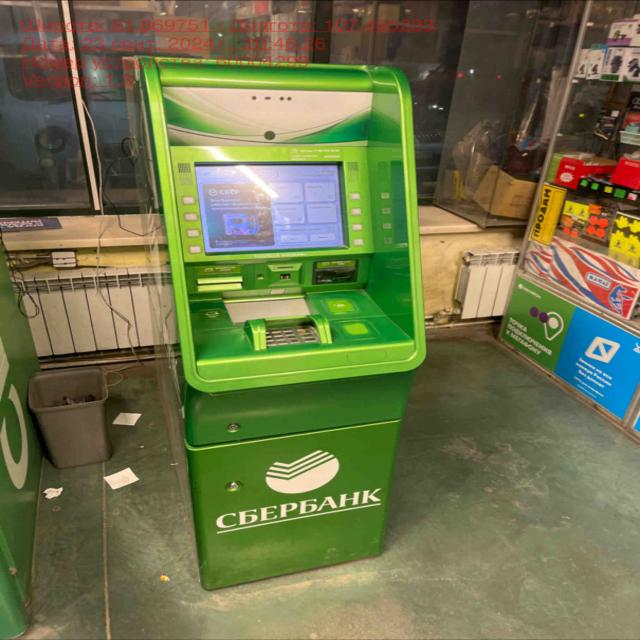bank: (122, 52, 430, 590), (0, 222, 38, 640)
